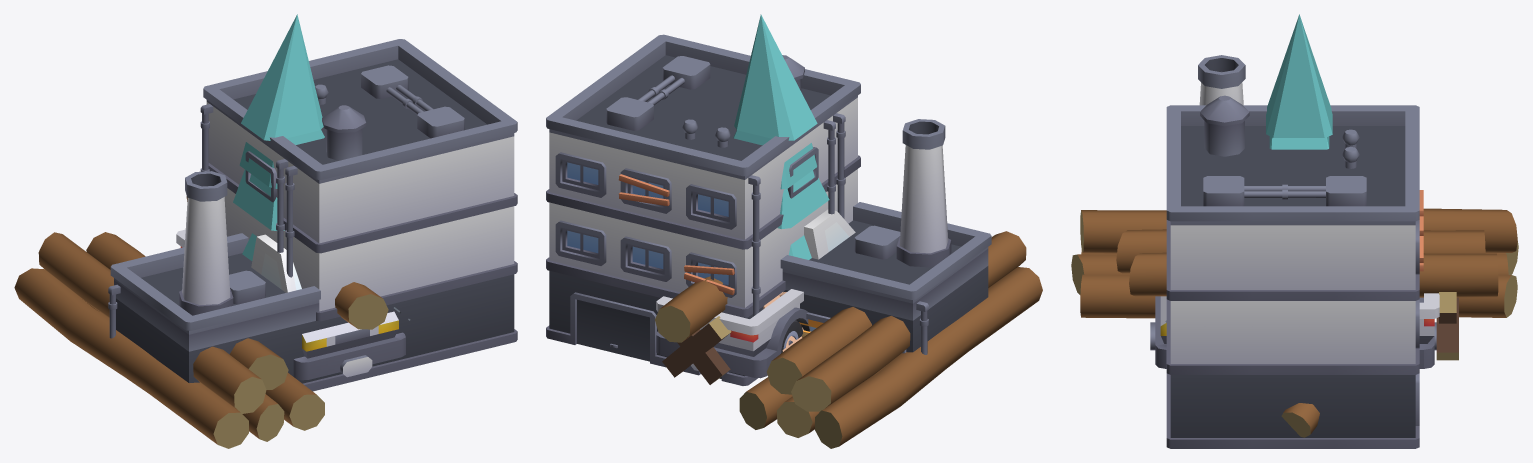
Rendered from aserradero.glb.
3 renders of one model, left to right at view 1: azimuth 30°, elevation 25°; view 2: azimuth 150°, elevation 25°; view 3: azimuth 270°, elevation 25°, orthographic. The views are drawn at different scales.
Visible parts, largest first — view 1: building-b, Environment_Sawmill, tree_pineTallA, body; view 2: building-b, Environment_Sawmill, tree_pineTallA, body; view 3: building-b, Environment_Sawmill, tree_pineTallA, body.
Boxes of the visible parts, x1,y1,x2,y2 form: building-b: (108,39,517,391); Environment_Sawmill: (14,196,410,448); tree_pineTallA: (233,14,324,230); body: (176,229,405,380); building-b: (546,34,991,385); Environment_Sawmill: (655,231,1042,448); tree_pineTallA: (733,14,829,229); body: (656,209,855,378); building-b: (1166,55,1423,448); Environment_Sawmill: (1071,208,1518,437); tree_pineTallA: (1266,14,1332,149); body: (1150,293,1439,368).
Bounding box in the file's own units: 10.45 × 9 × 10.44.
24 materials, 6 textured.
